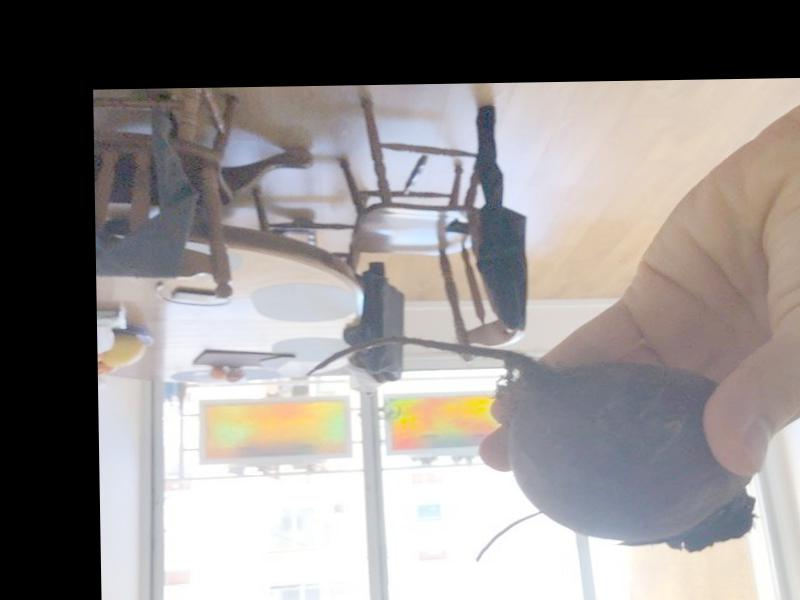Beet: (305, 332, 755, 560)
